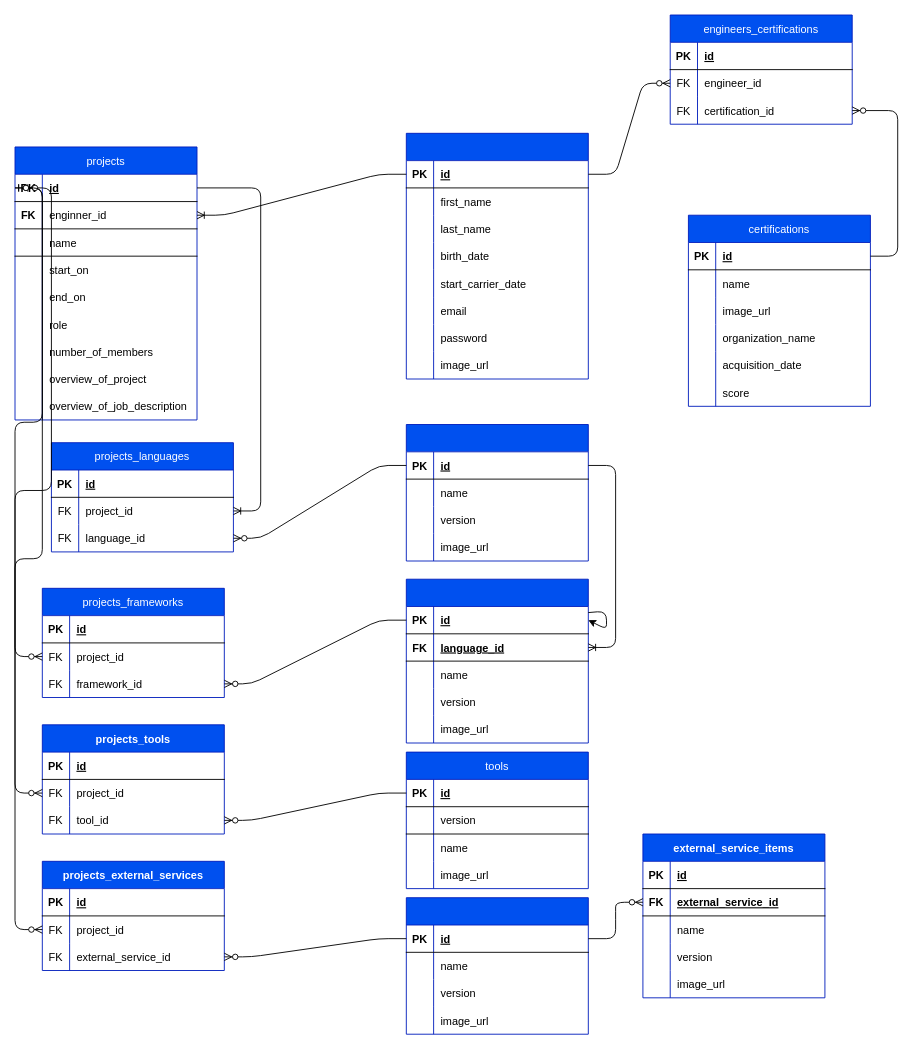
Image size: 913x1049. Some labels were removed from this diagram. The box of each missing label's shape, as (x1, y1, x2, y2) in pixels:
engineers: (405, 132, 588, 379)
external_services: (405, 897, 588, 1034)
frameworks: (405, 578, 588, 743)
languages: (405, 424, 588, 561)
